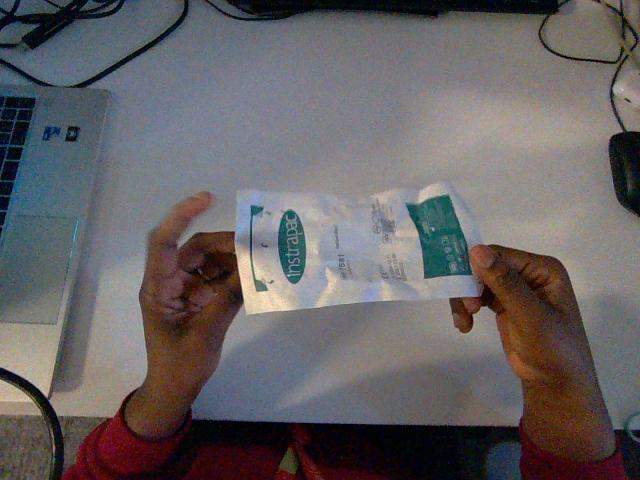gallipot: (235, 182, 481, 313)
